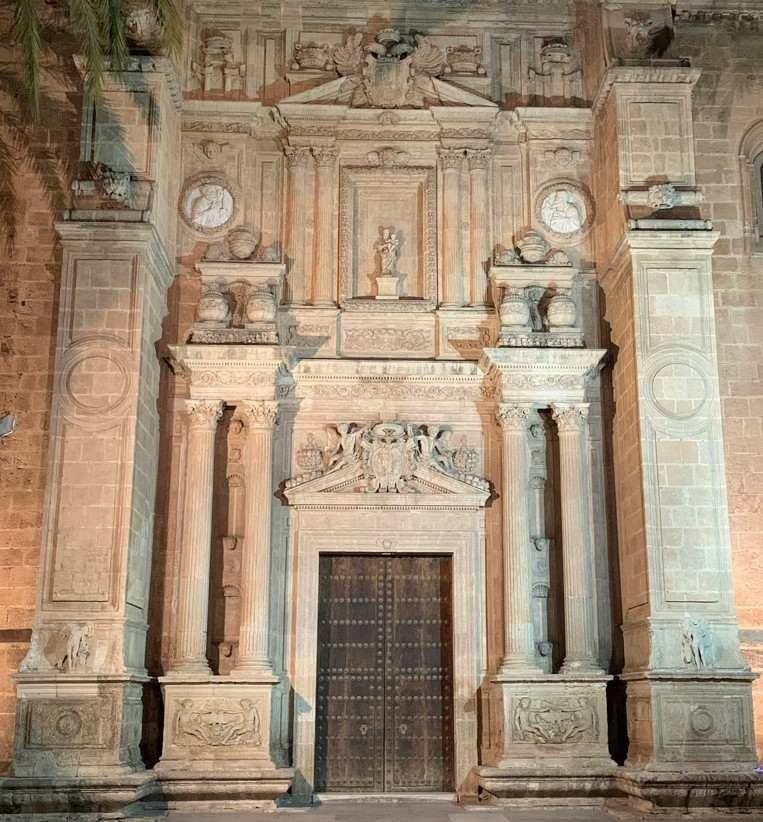fronton: (278, 458, 493, 511)
fronton-partido: (273, 65, 504, 118)
vano-adintelado: (297, 526, 471, 790), (335, 158, 444, 315)
